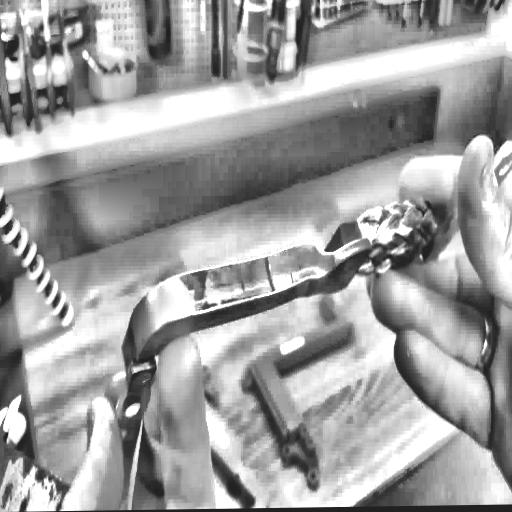busbar: (112, 123, 512, 454)
